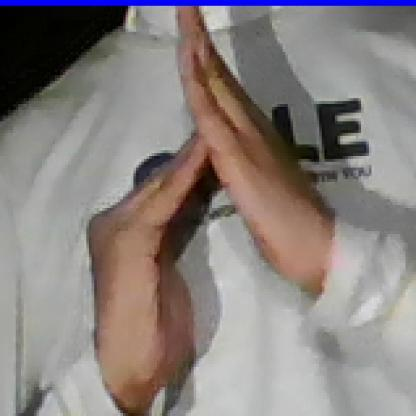Z: (82, 7, 332, 373)
